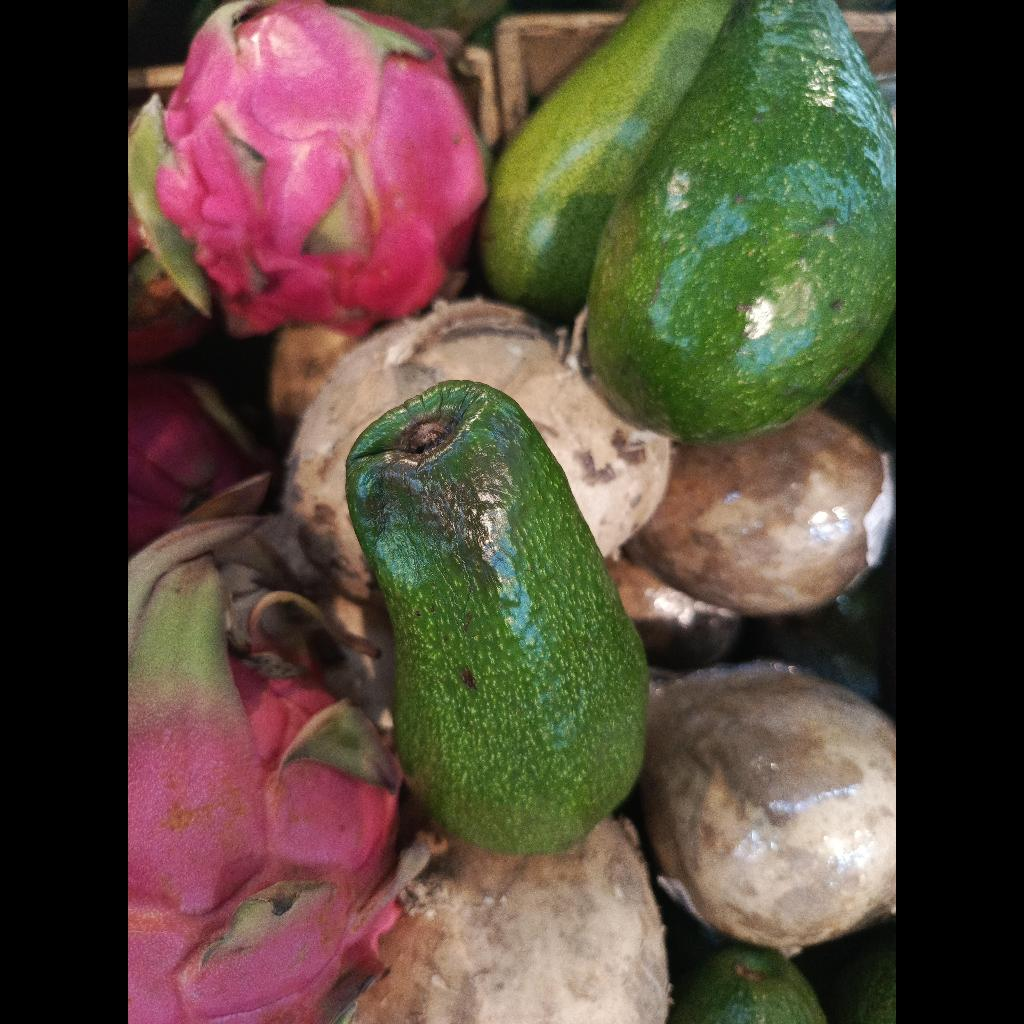pudricion_peduncular: (346, 381, 648, 854)
